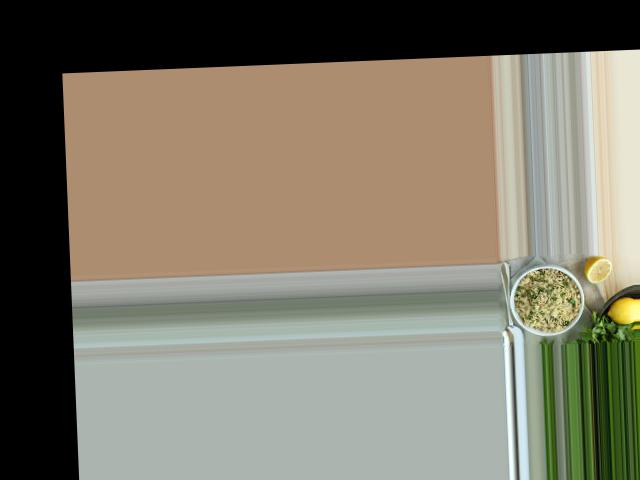lemon: (608, 300, 634, 323)
